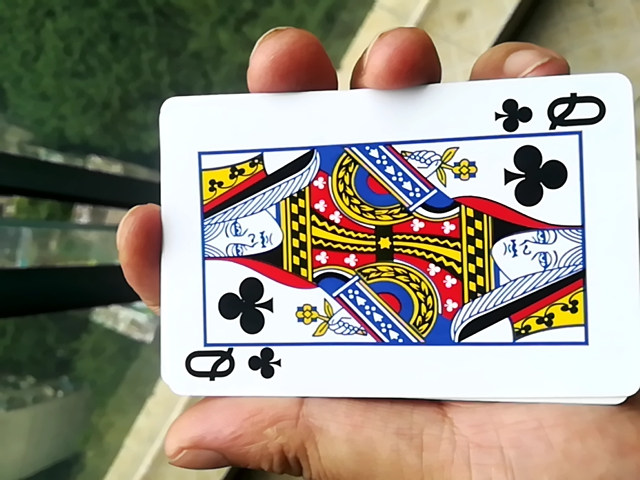mh q: (136, 90, 635, 419)
